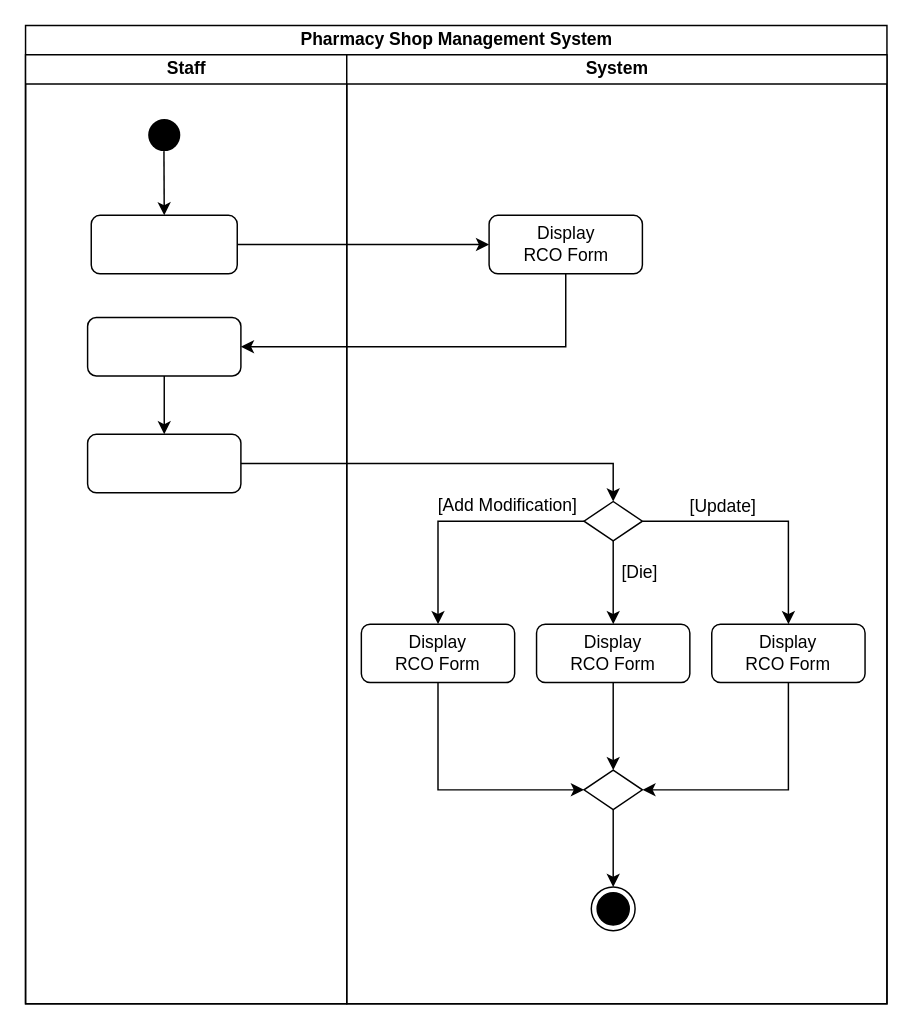
The diagram is 913 pixels wide and 1029 high, and some of its shapes have lost their labels. Each missing label, with the box of its shape:
Click Close button: (86, 433, 241, 493)
Click RCO: (90, 214, 237, 274)
Select Option: (86, 316, 241, 376)
